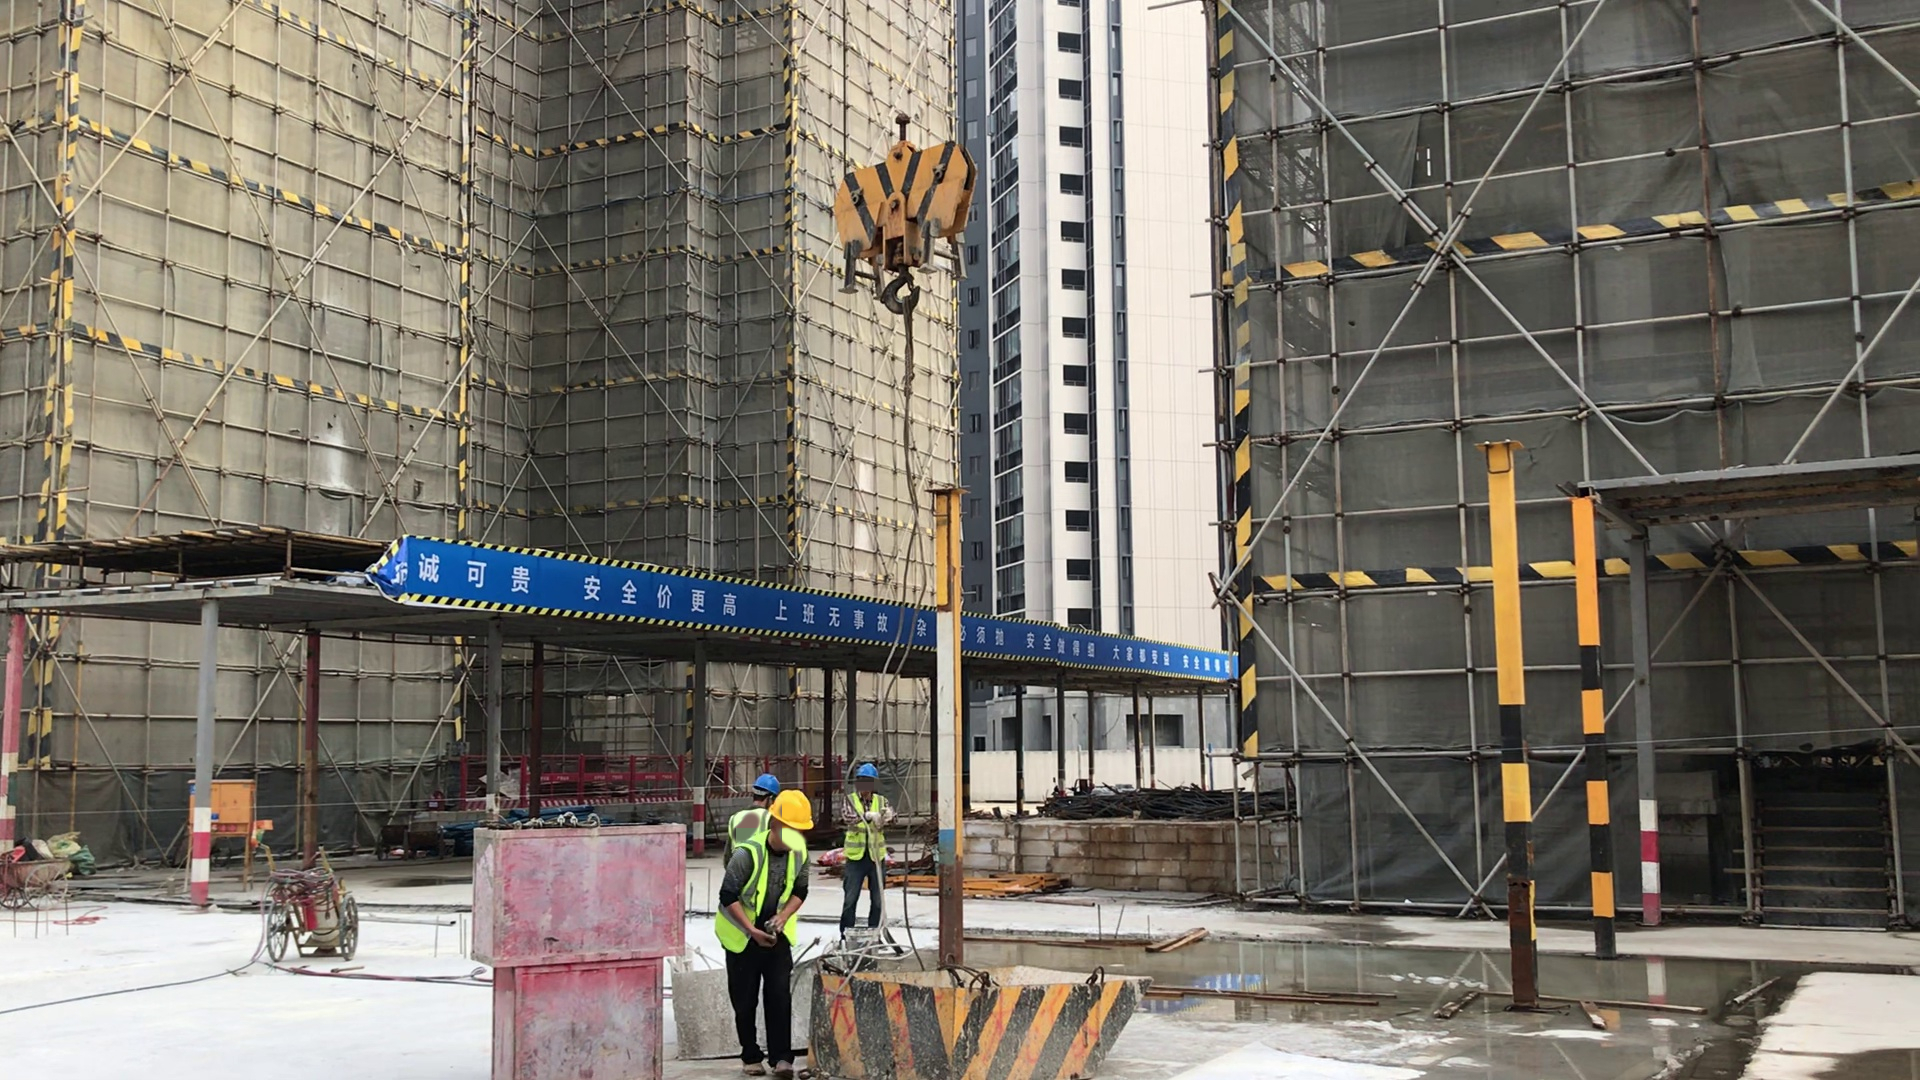ebox: (215, 771, 265, 897)
fence: (403, 538, 891, 643), (965, 615, 1236, 689), (539, 749, 682, 802)
handcart: (252, 843, 363, 967), (4, 856, 67, 917)
helmet: (768, 790, 815, 832), (751, 773, 781, 798), (853, 763, 881, 780)
hook: (814, 109, 980, 322)
hopper: (819, 960, 1150, 1080), (667, 958, 733, 1068)
person: (716, 791, 815, 1078), (835, 763, 900, 932), (718, 772, 780, 852)
vest: (714, 830, 802, 957), (846, 792, 890, 862), (727, 808, 768, 846)
